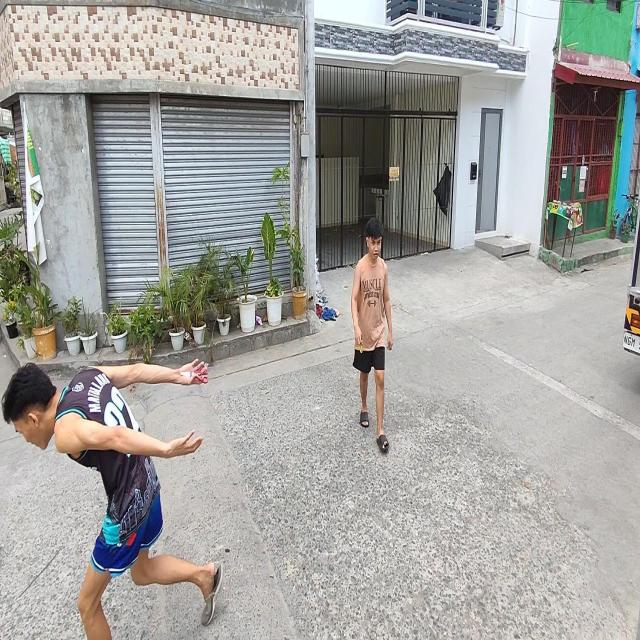scissor: (180, 368, 208, 383), (359, 332, 362, 353)
